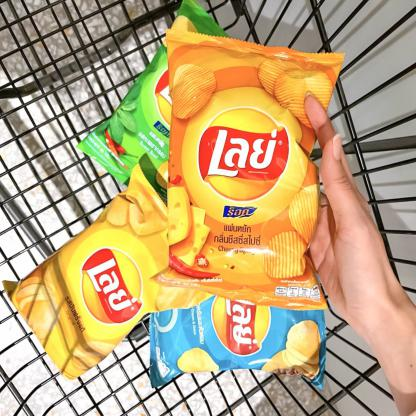potatochip: (146, 14, 348, 317), (0, 159, 229, 385), (71, 0, 271, 210), (143, 235, 328, 398)
